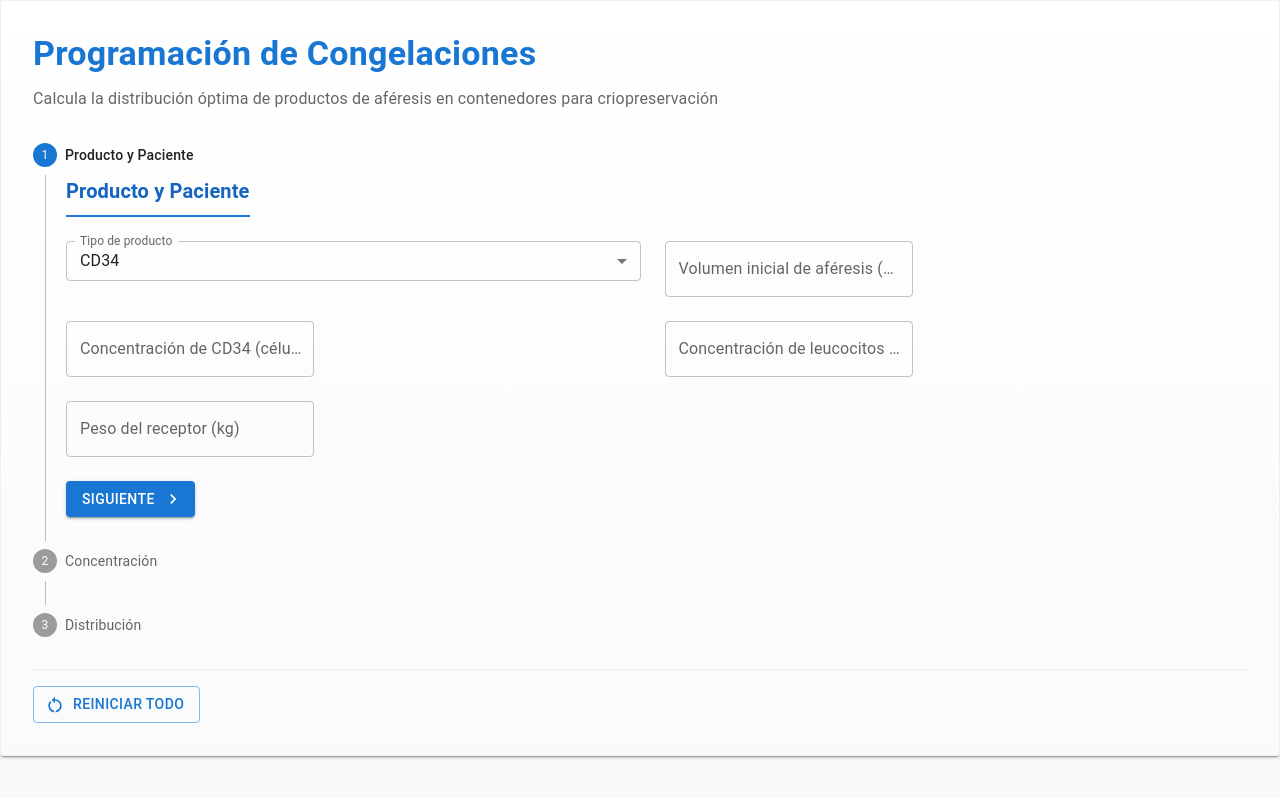
Scenario: CryopreservationCalculator — dilución › propone diluir cuando el producto supera la concentración máxima
Type "100" into the number field labelled "Volumen inicial de aféresis (ml)".
click(788, 269); type("100")  # box x1=664 y1=241 x2=912 y2=297
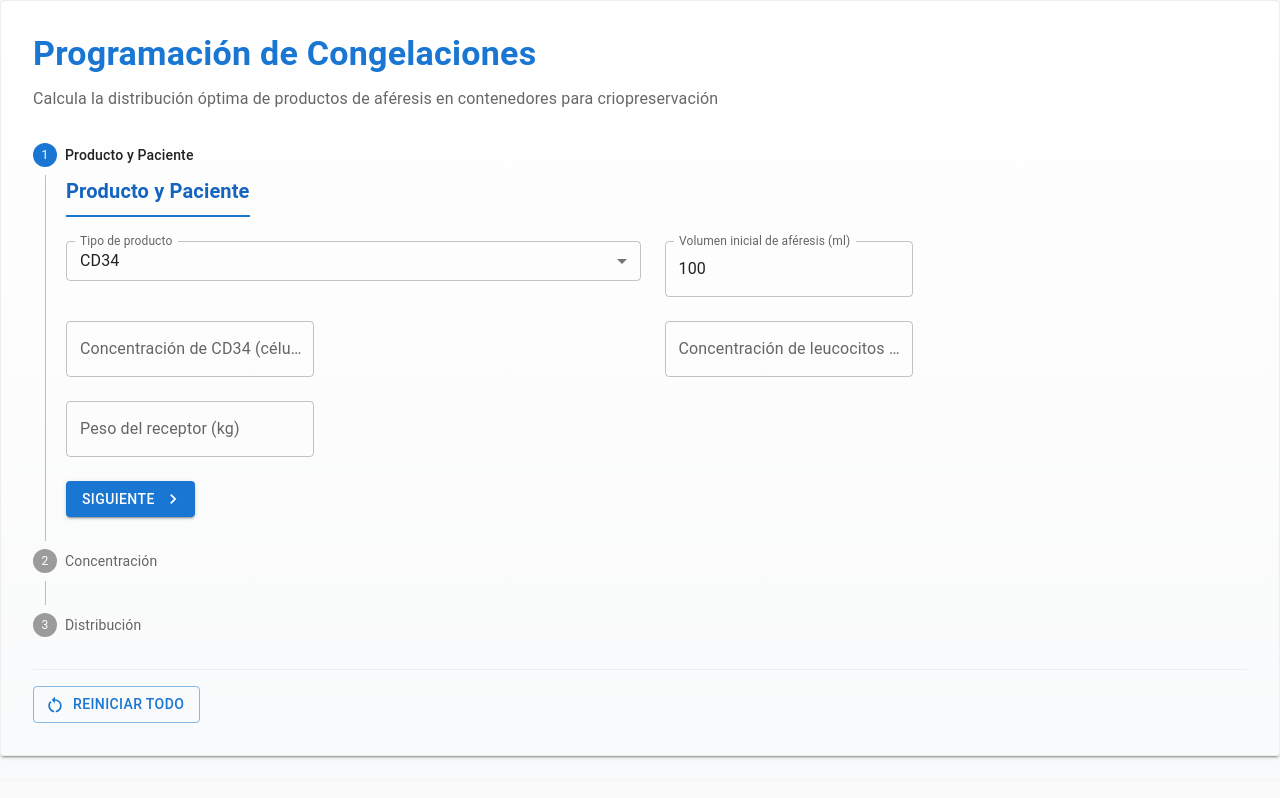
Type "1000" into the number field labelled "Concentración de CD34 (células/μL)".
click(190, 349); type("1000")  # box x1=66 y1=321 x2=314 y2=377
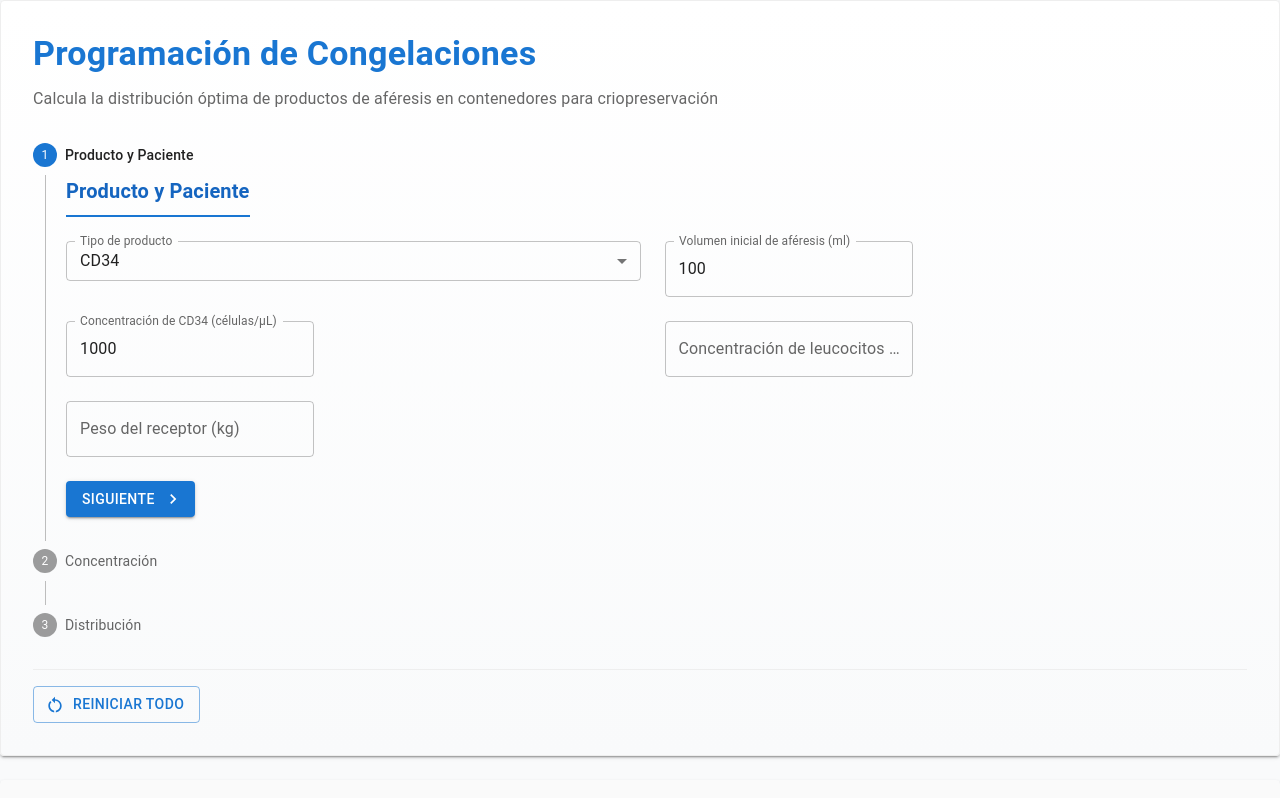
Type "400000" into the number field labelled "Concentración de leucocitos (células/mm³)".
click(788, 349); type("400000")  # box x1=664 y1=321 x2=912 y2=377
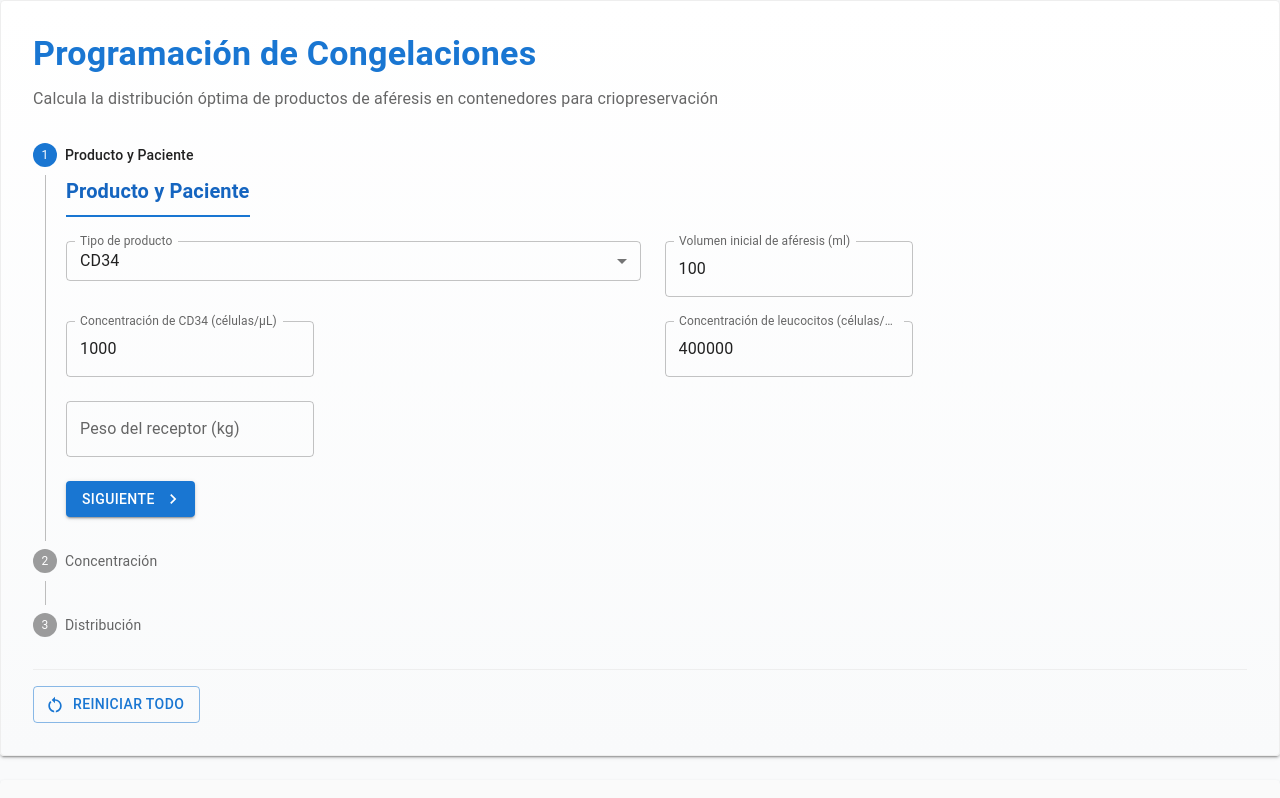
Type "70" into the number field labelled "Peso del receptor (kg)".
click(190, 429); type("70")  # box x1=66 y1=401 x2=314 y2=457
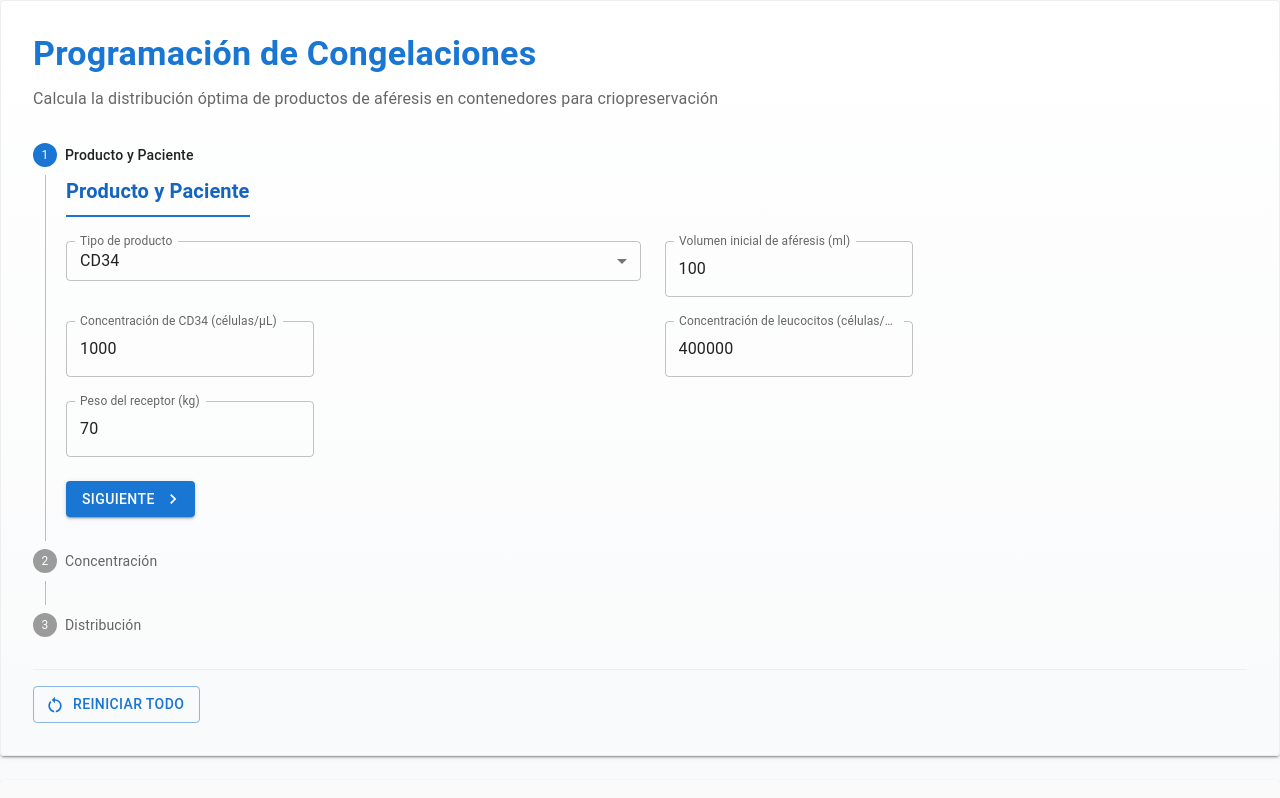
Click the button "Siguiente".
click(130, 499)  # box x1=66 y1=481 x2=195 y2=517
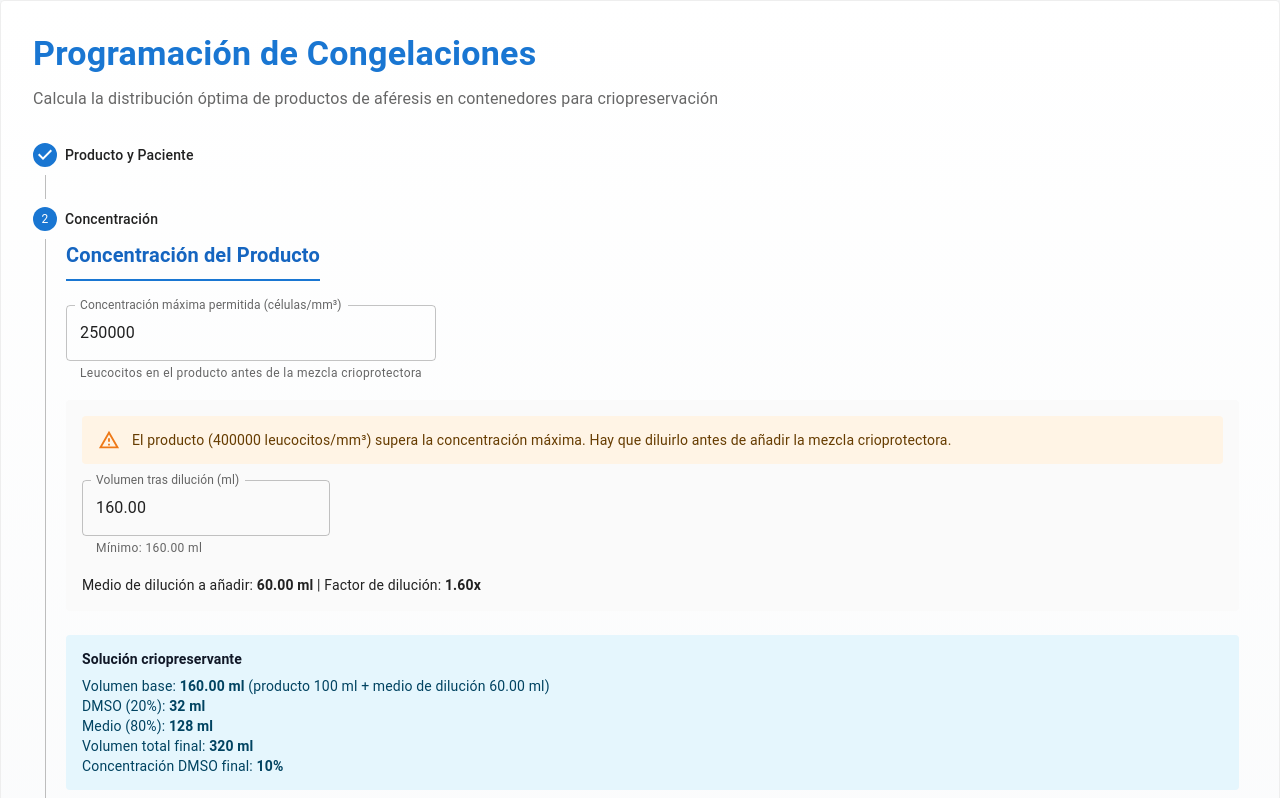
Check: the number field labelled "Volumen tras dilución (ml)" holds "160", box x1=82 y1=480 x2=330 y2=536
Check: the text "Medio de dilución a añadir" shows "60.00 ml", box x1=82 y1=577 x2=481 y2=593
Check: the text "Factor de dilución" shows "1.60x", box x1=82 y1=577 x2=481 y2=593
